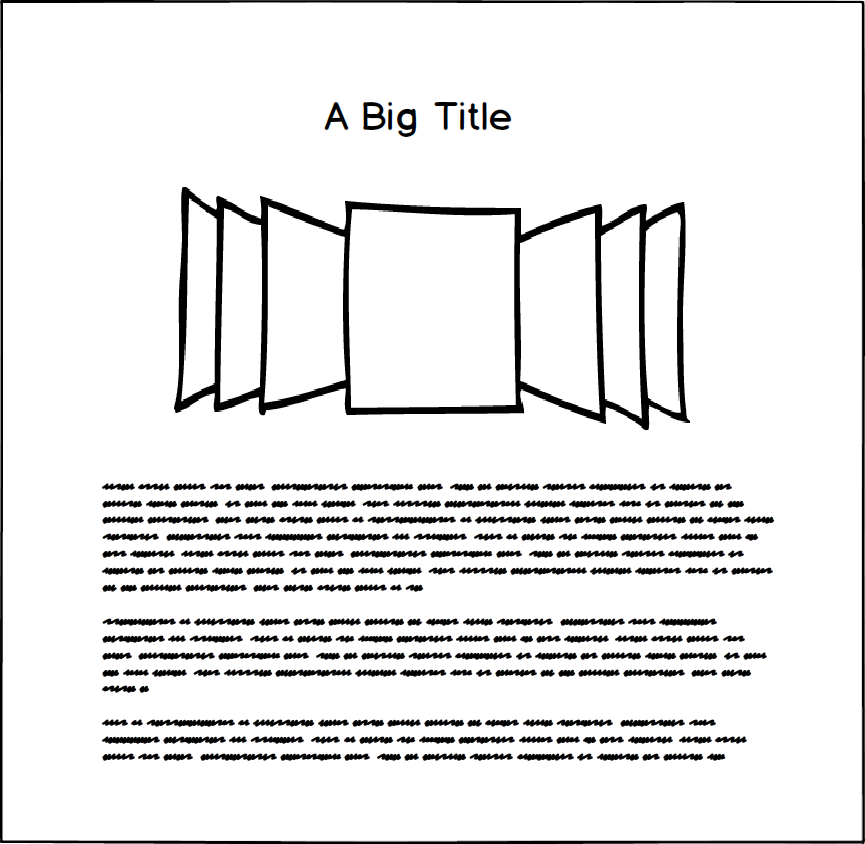h1: (310, 83, 522, 150)
p: (89, 474, 786, 778)
slideshow: (158, 178, 705, 439)
